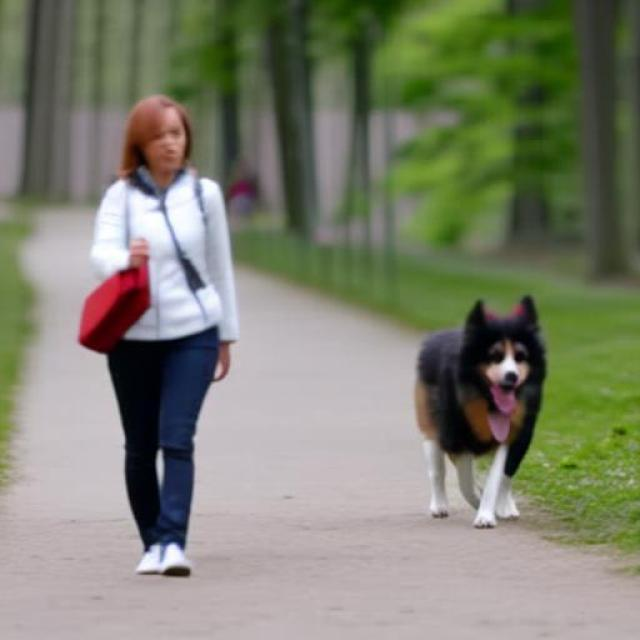Unleashed_Dog: (124, 268, 548, 530)
